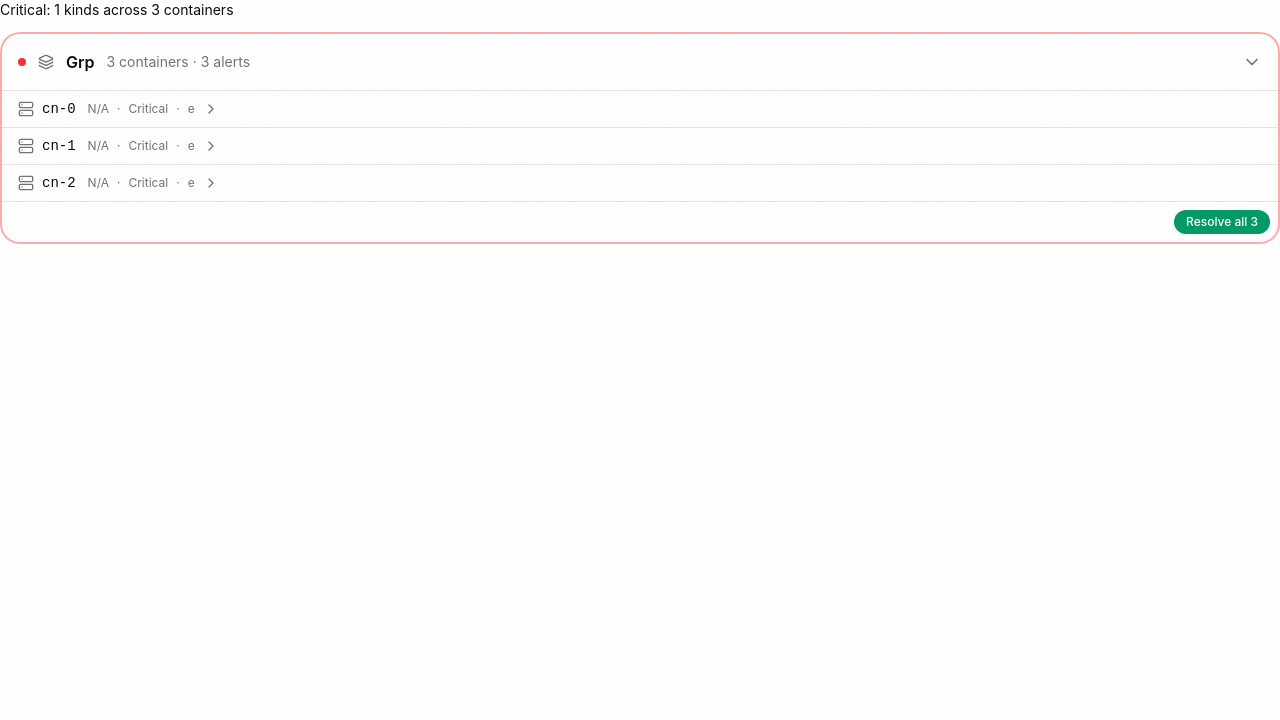
Test: IncidentGroupsView — resolve › partial failure ≤5 keeps failed inline with retry option
The width and height of the screenshot is (1280, 720).
Click the button "Resolve all 3": (1222, 222) [1174, 210, 1270, 234]
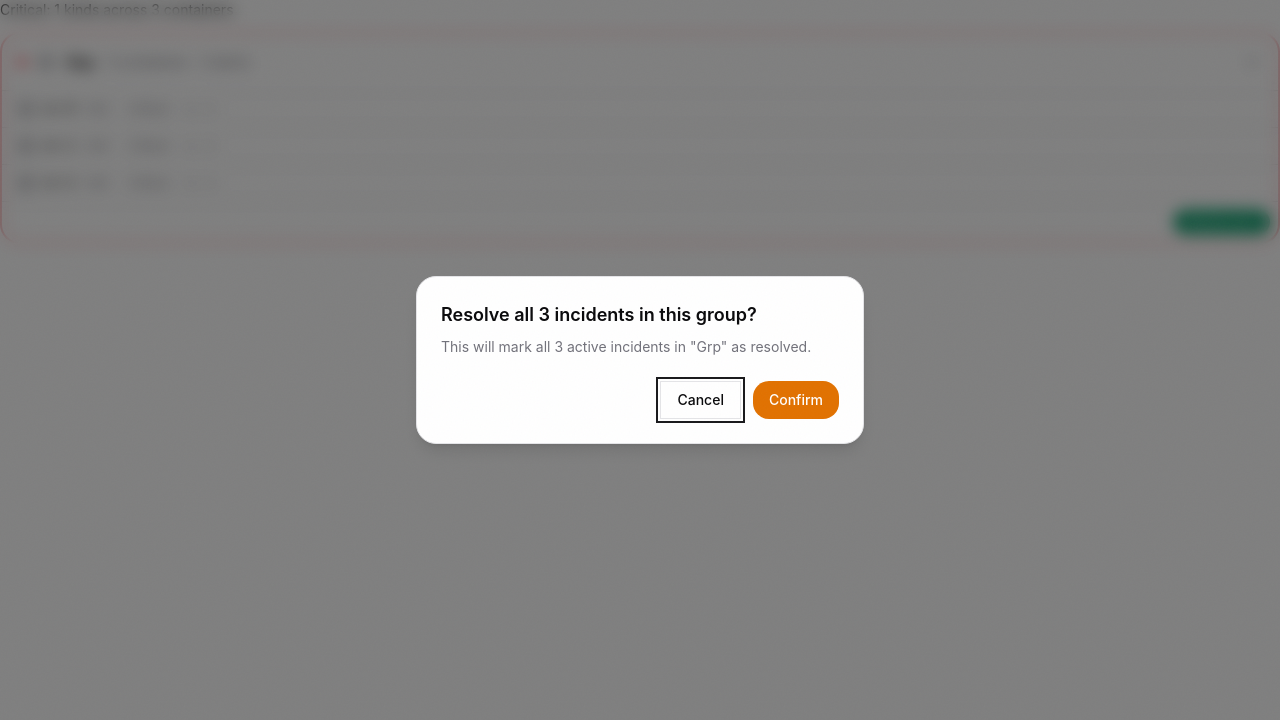
Click the button "Confirm": (796, 400) [753, 381, 839, 419]
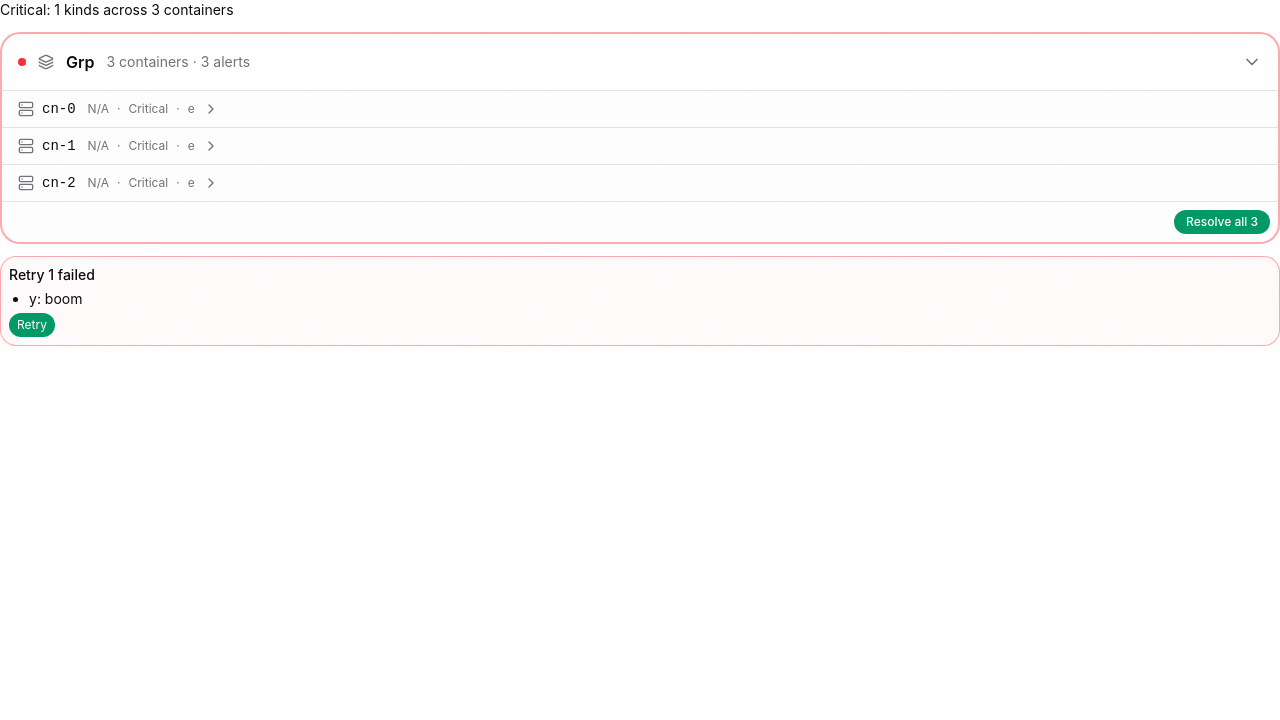
Expected: the text "Retry 1 failed" is shown, [9, 266, 95, 283]
